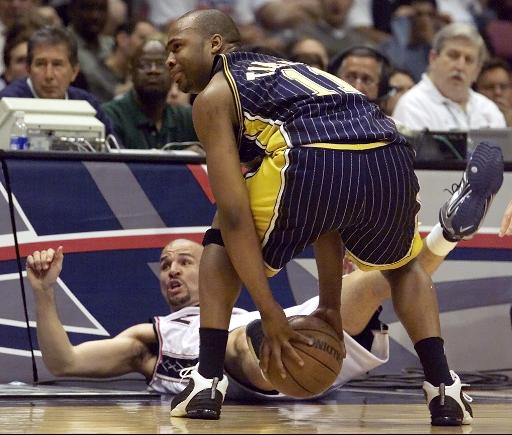10+: (1, 1, 512, 435)
down: (22, 133, 497, 399)
